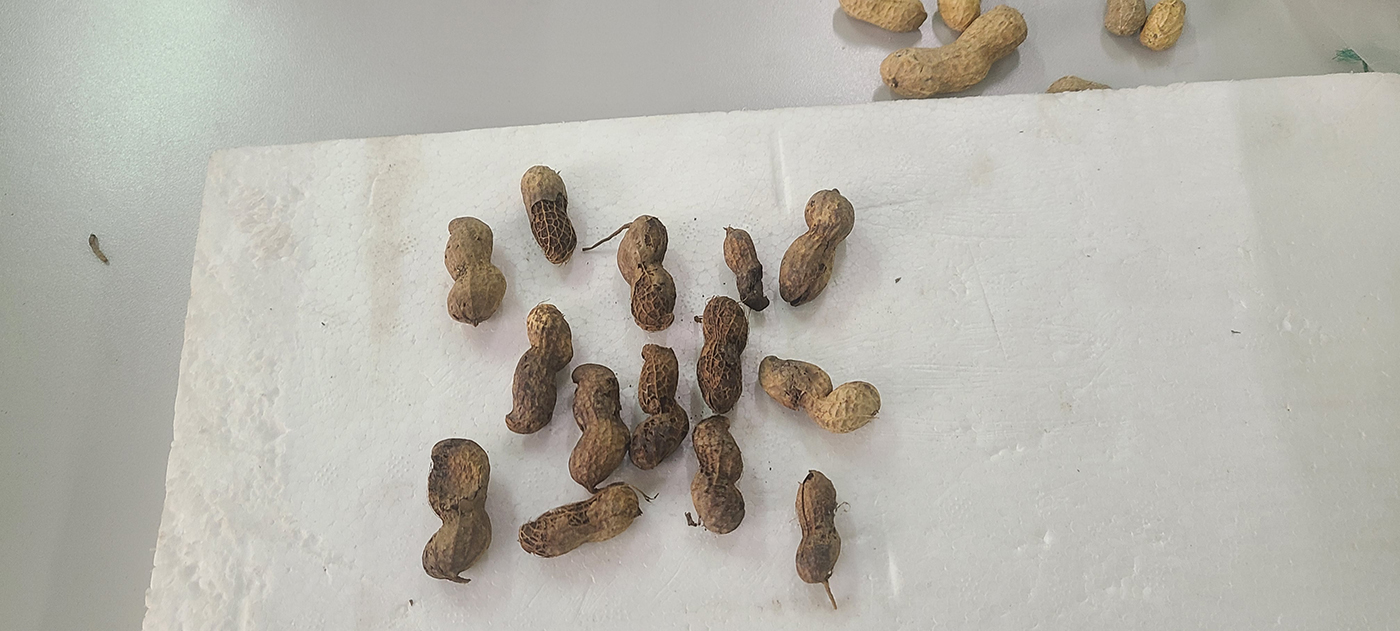h: (880, 7, 1027, 99), (839, 1, 927, 30), (1140, 1, 1187, 51), (935, 1, 982, 32)
l: (421, 438, 492, 580), (759, 353, 881, 431), (519, 483, 642, 558), (779, 189, 855, 307), (506, 303, 573, 433), (567, 363, 630, 485), (630, 344, 689, 470), (617, 215, 677, 333), (444, 216, 506, 326), (691, 415, 745, 535), (697, 296, 749, 413), (520, 166, 577, 265), (795, 468, 840, 583), (723, 227, 772, 312), (1104, 1, 1146, 36)
